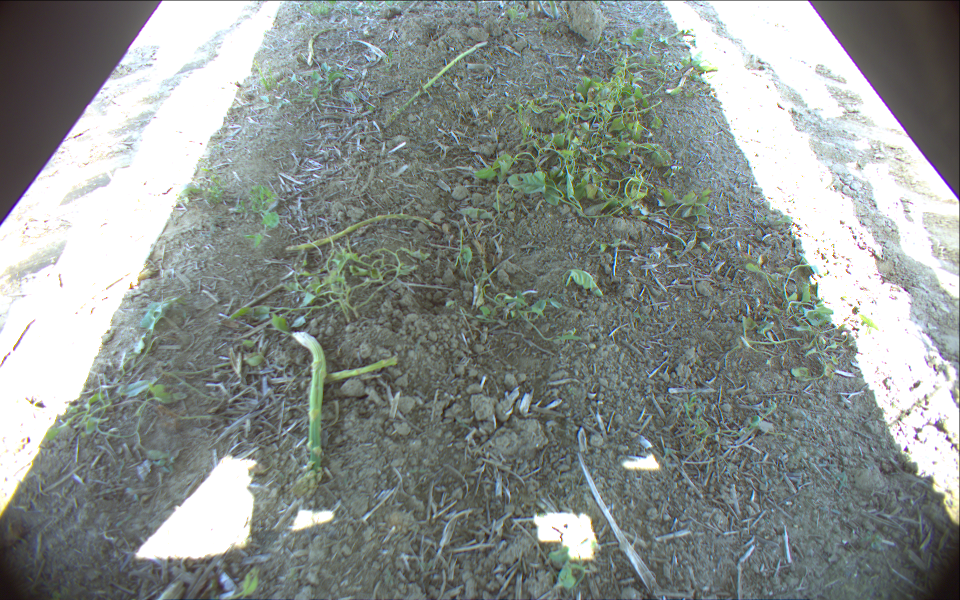aspa: (384, 35, 491, 129), (285, 211, 440, 251), (292, 330, 322, 487), (324, 358, 397, 384), (307, 26, 334, 66), (664, 67, 696, 93)
